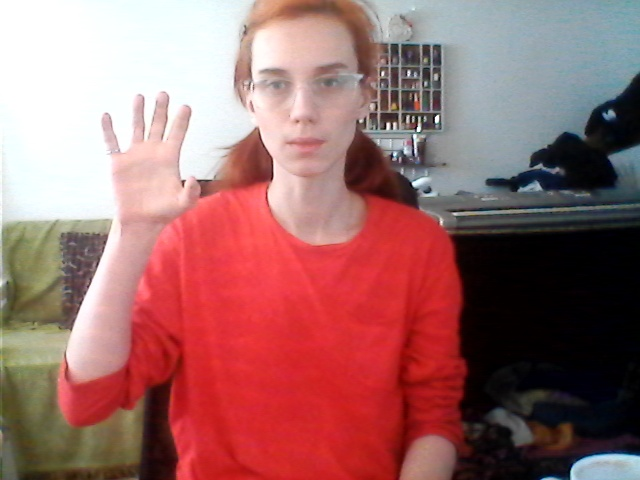budova: (86, 89, 206, 239)
